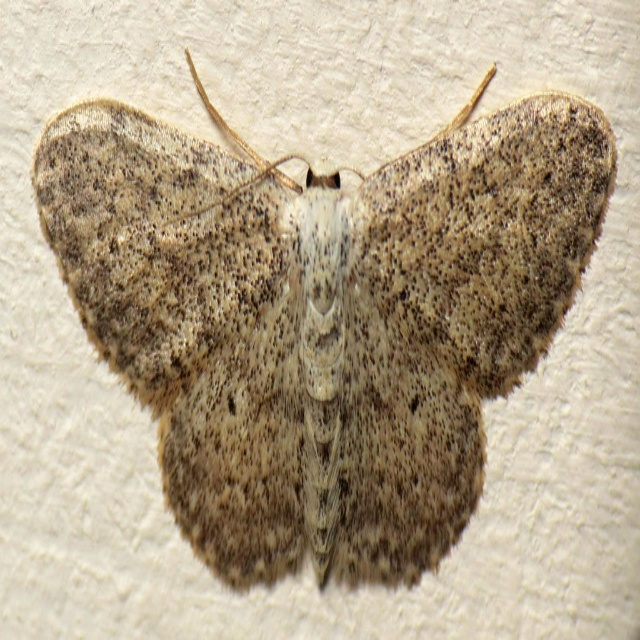Butterfly: (50, 37, 611, 611)
